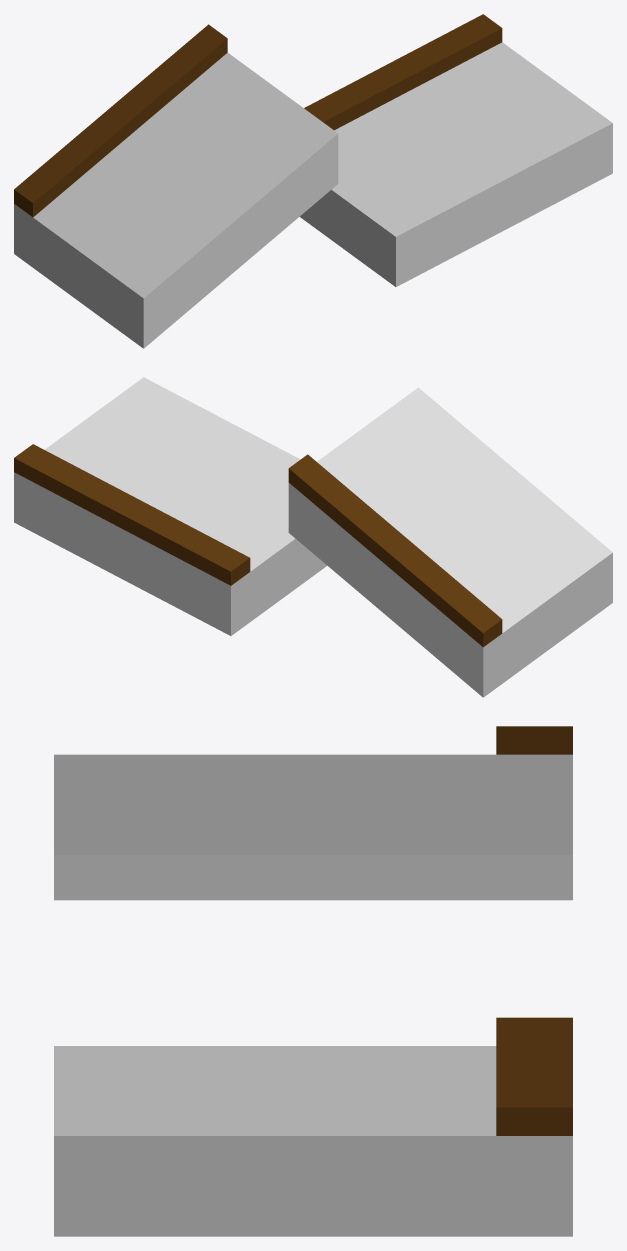
The model's file is groundup1530.fbx.
3 renders of one model, top to bottom at view 1: azimuth 30°, elevation 25°; view 2: azimuth 150°, elevation 25°; view 3: azimuth 270°, elevation 25°, orthographic. The views are drawn at different scales.
Visible parts, largest first — view 1: Cube.009, Cube.008, Wall.004, Wall.000; view 2: Cube.009, Cube.008, Wall.004, Wall.000; view 3: Cube.008, Cube.009, Wall.000, Wall.004.
Part boxes in pixels (x1,y1,x2,y2): Cube.009: (14,52,338,348); Cube.008: (299,42,612,286); Wall.004: (14,24,227,217); Wall.000: (304,14,502,130); Cube.009: (288,387,612,697); Cube.008: (14,377,327,635); Wall.004: (288,454,502,647); Wall.000: (14,444,250,585); Cube.008: (54,1046,572,1236); Cube.009: (54,754,572,900); Wall.000: (496,1017,572,1135); Wall.004: (496,726,572,754).
Size of the model in its own units: 418 by 155 by 200.
